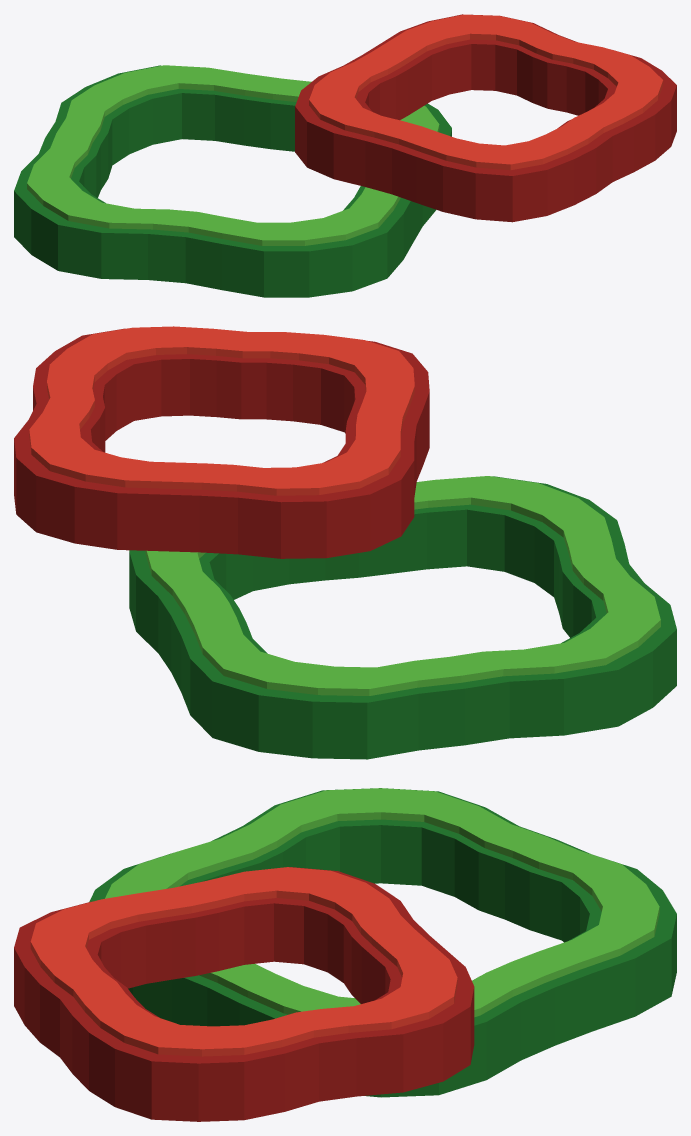
Rendered from BellPepper.fbx.
3 renders of one model, top to bottom at view 1: azimuth 30°, elevation 25°; view 2: azimuth 150°, elevation 25°; view 3: azimuth 270°, elevation 25°, orthographic. The views are drawn at different scales.
Parts seen in each view (by area): view 1: Top_1E7A2A, Top_A4201C, Top_E8402E, Top_5CBF42; view 2: Top_1E7A2A, Top_A4201C, Top_5CBF42, Top_E8402E; view 3: Top_A4201C, Top_1E7A2A, Top_E8402E, Top_5CBF42.
Part boxes in pixels (x1,y1,x2,y2): Top_1E7A2A: (14,65,451,297); Top_A4201C: (295,14,676,222); Top_E8402E: (309,14,663,170); Top_5CBF42: (27,65,439,245); Top_1E7A2A: (129,476,676,759); Top_A4201C: (14,328,429,558); Top_5CBF42: (145,476,660,695); Top_E8402E: (29,326,414,495); Top_A4201C: (14,867,474,1121); Top_1E7A2A: (89,788,676,1097); Top_E8402E: (30,867,457,1056); Top_5CBF42: (105,788,659,1017).
Bounding box in the file's own units: 2 × 0.3649 × 1.63.
